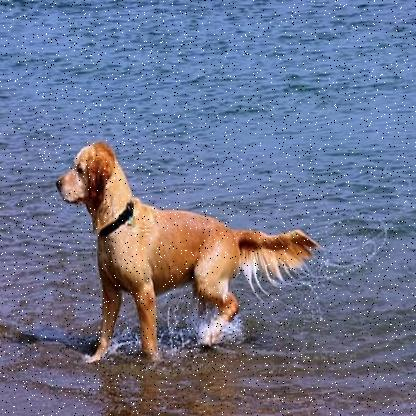dog: (53, 137, 324, 367)
